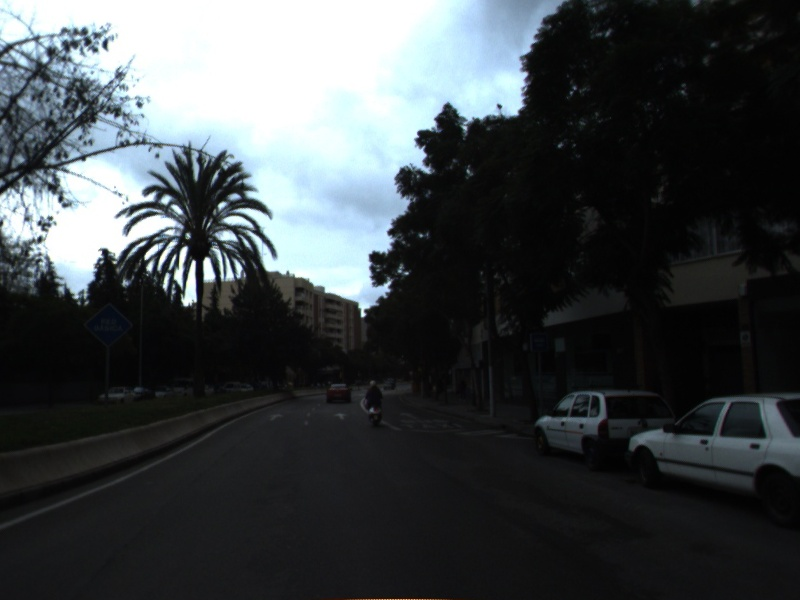STRAIGHT: (267, 411, 286, 423), (331, 411, 350, 422)
